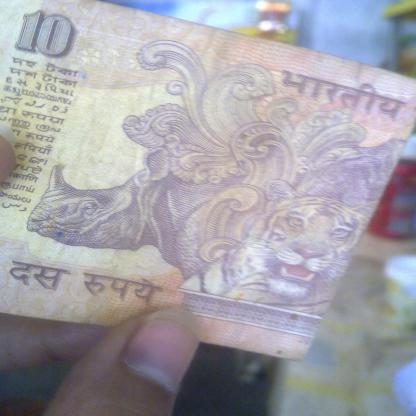Old10Back: (0, 0, 415, 363)
